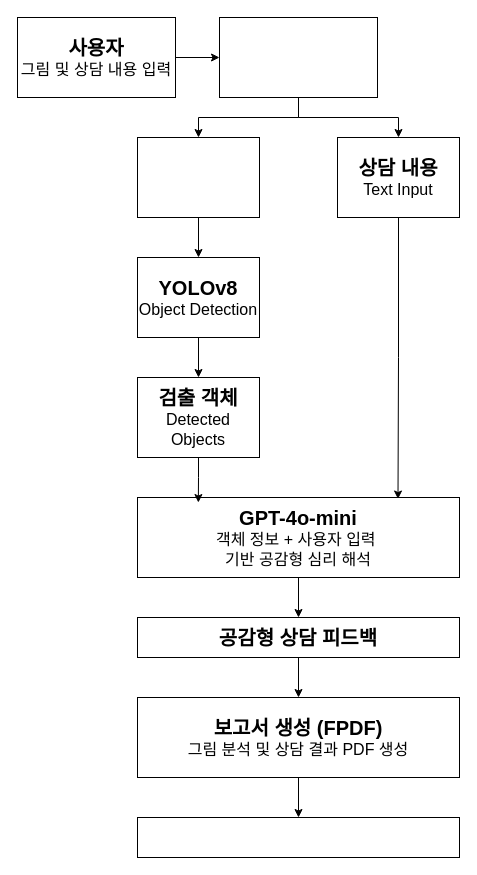
Image size: 477x875. Some labels were removed from this diagram. The shapes that lost their labels are listed below. From the top down, each one's box as (x1, y1, x2, y2) in pixels, then its label:
(218, 16, 378, 98): 인터페이스 Gradio Web Platform
(136, 136, 260, 218): 그림 Image Input
(136, 816, 460, 858): PDF 보고서 출력
